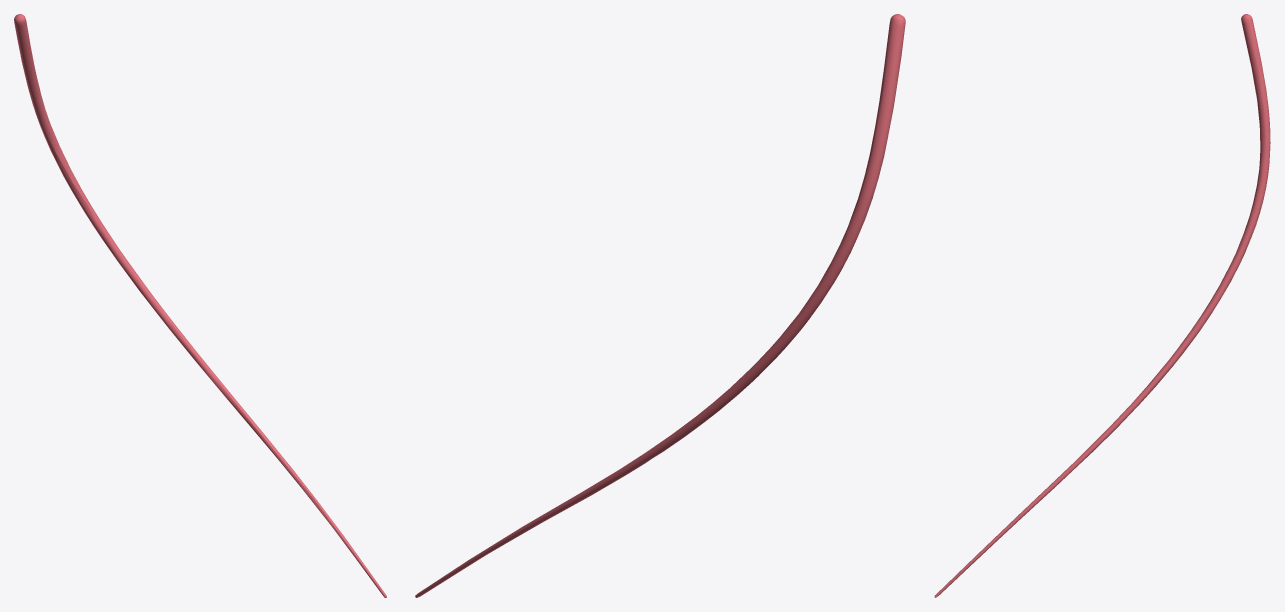
The model's file is fma23051_fj2333.glb.
3 renders of one model, left to right at view 1: azimuth 30°, elevation 25°; view 2: azimuth 210°, elevation 25°; view 3: azimuth 270°, elevation 25°, orthographic. The views are drawn at different scales.
Parts seen in each view (by area): view 1: FMA23051_FJ2333; view 2: FMA23051_FJ2333; view 3: FMA23051_FJ2333.
Boxes of the visible parts, box(x1,y1,x2,y2) form: FMA23051_FJ2333: box(14, 14, 386, 597); FMA23051_FJ2333: box(415, 14, 905, 597); FMA23051_FJ2333: box(934, 14, 1270, 597).
Bounding box in the file's own units: 0.029 × 0.0681 × 0.0424.
